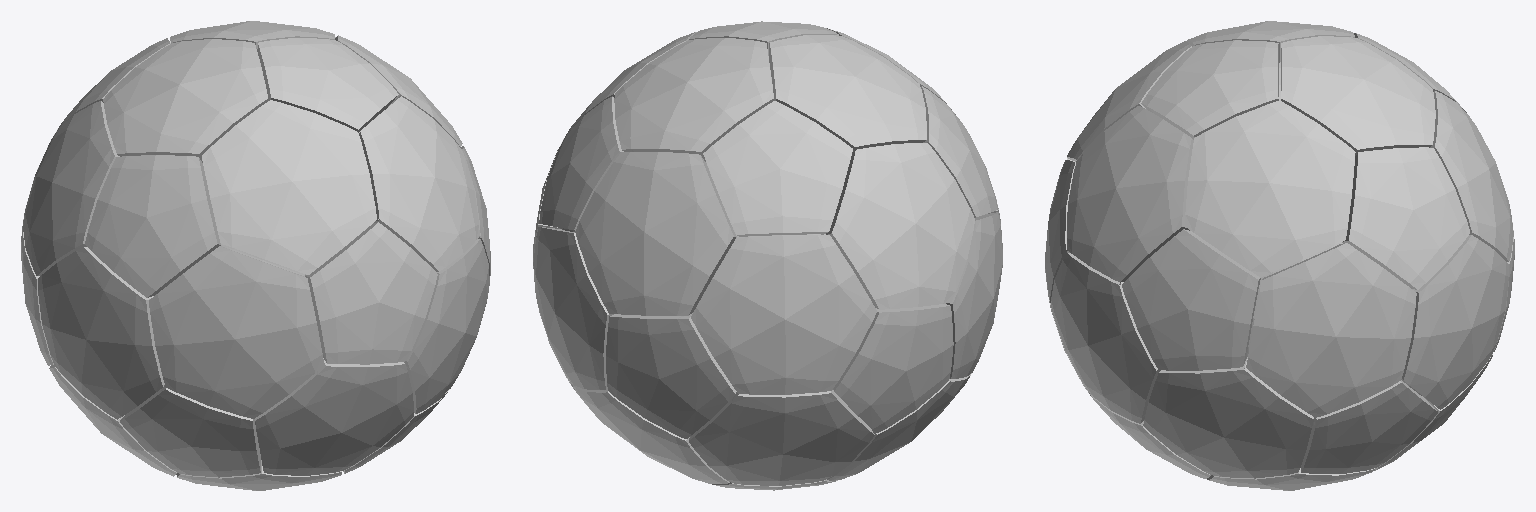
File: ballon_obj.obj
The picture shows the model from 3 angles: view 1: azimuth 30°, elevation 25°; view 2: azimuth 150°, elevation 25°; view 3: azimuth 270°, elevation 25°; orthographic projection.
Parts seen in each view (by area): view 1: pasted__pasted__pSolid7 pasted__pasted__pSolid6SmoothProxyGroup ; view 2: pasted__pasted__pSolid7 pasted__pasted__pSolid6SmoothProxyGroup ; view 3: pasted__pasted__pSolid7 pasted__pasted__pSolid6SmoothProxyGroup .
Boxes of the visible parts, x1,y1,x2,y2 form: pasted__pasted__pSolid7 pasted__pasted__pSolid6SmoothProxyGroup : [21, 21, 490, 490]; pasted__pasted__pSolid7 pasted__pasted__pSolid6SmoothProxyGroup : [533, 21, 1002, 490]; pasted__pasted__pSolid7 pasted__pasted__pSolid6SmoothProxyGroup : [1045, 21, 1514, 490].
Bounding box in the file's own units: 2.19 × 2.2 × 2.2.